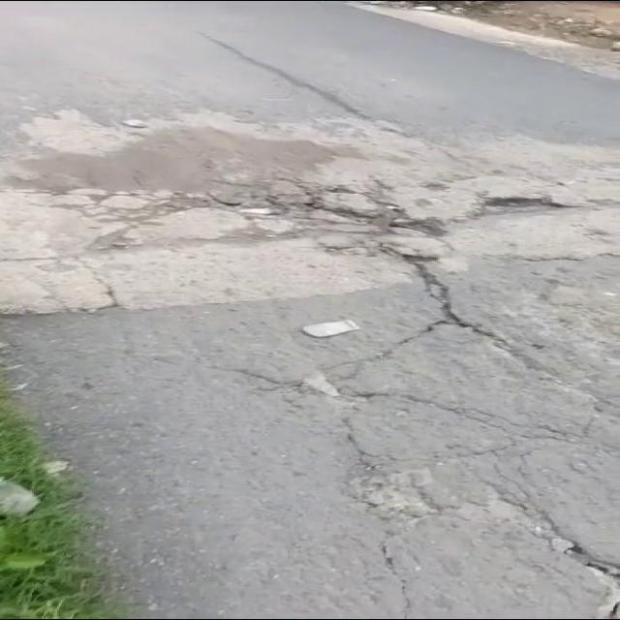lubang: (0, 158, 619, 314)
